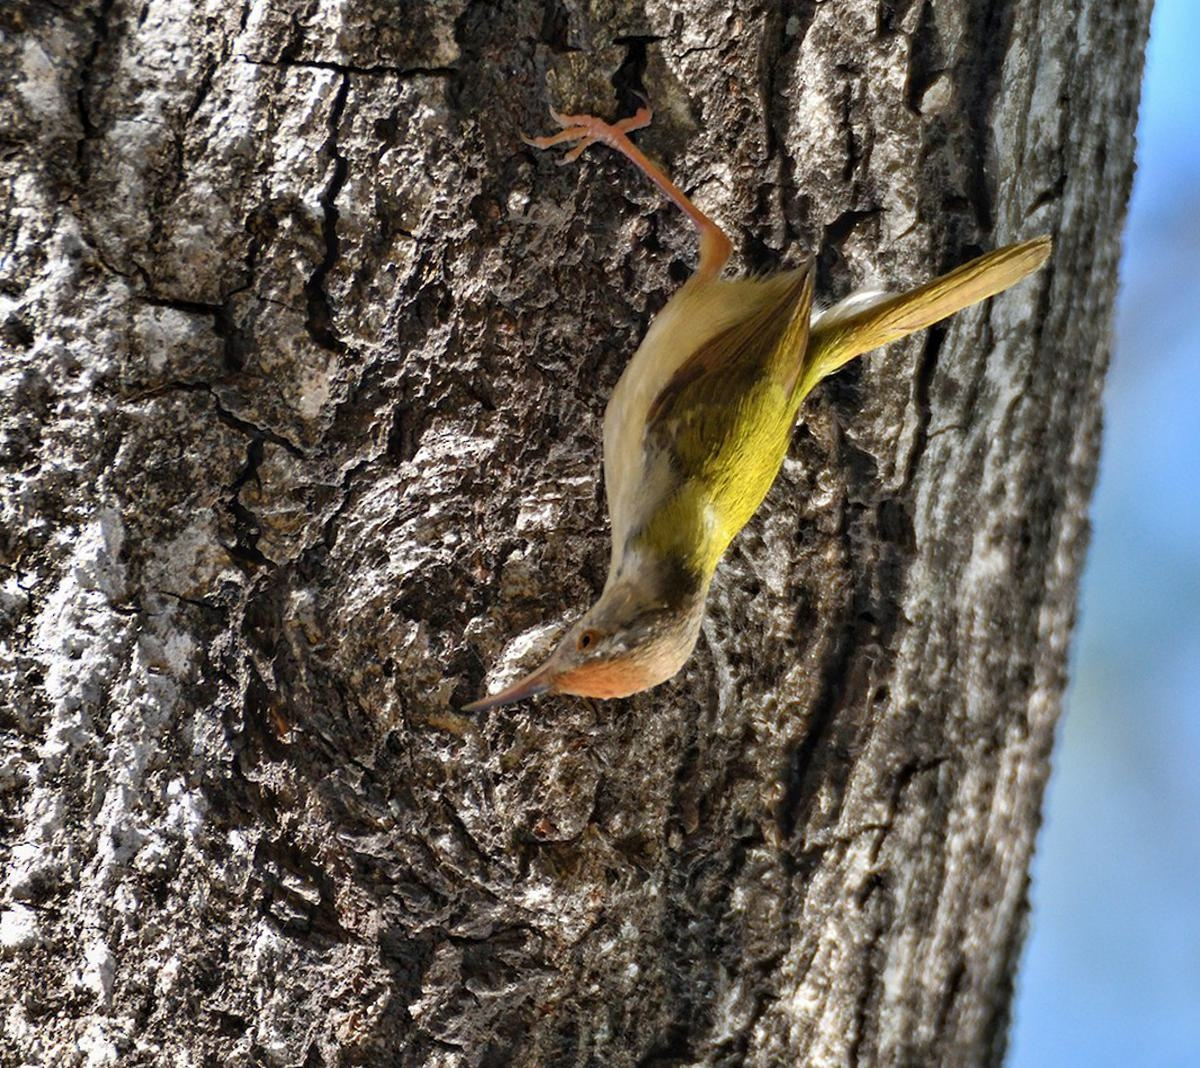tailorbird: (455, 188, 1055, 770)
